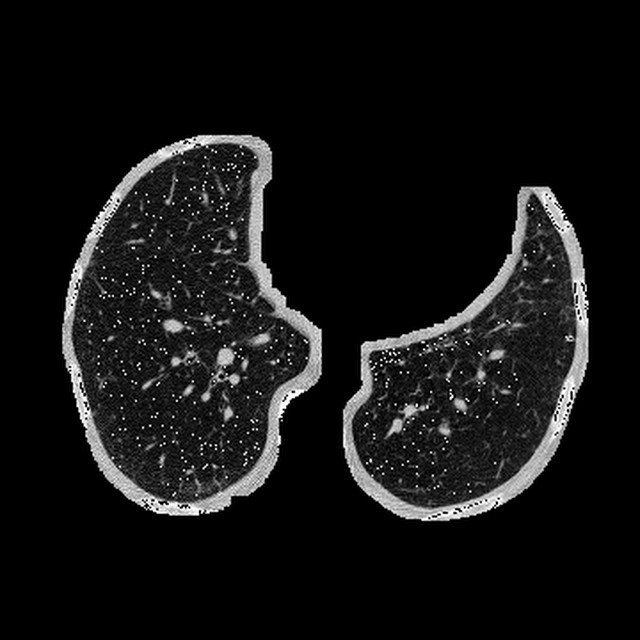PN: (565, 334, 572, 341)
